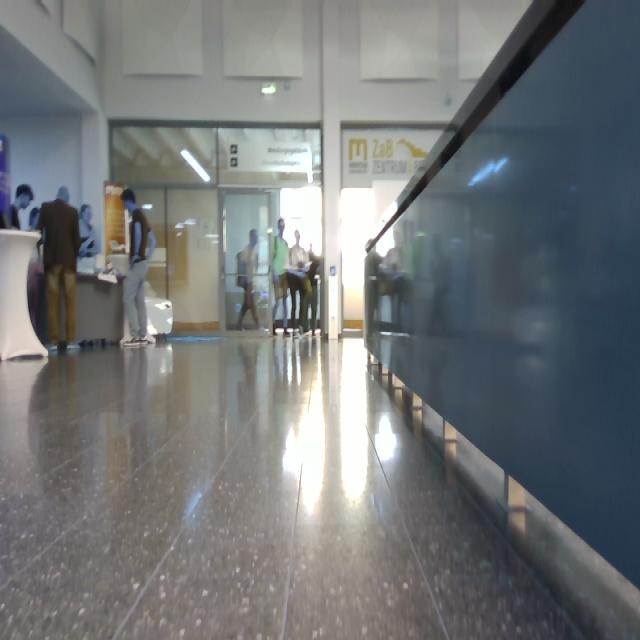banner: (1, 140, 25, 222)
desk: (86, 272, 132, 341)
door: (173, 193, 225, 333), (230, 197, 275, 330)
light bulb: (188, 152, 215, 186)
person: (47, 194, 89, 346), (131, 194, 163, 344), (242, 226, 263, 330), (294, 246, 318, 334), (272, 241, 291, 334), (9, 189, 46, 232), (88, 208, 108, 260)
staircase: (367, 1, 640, 640)
table: (1, 234, 59, 360)
tiled floor: (1, 336, 585, 640)
